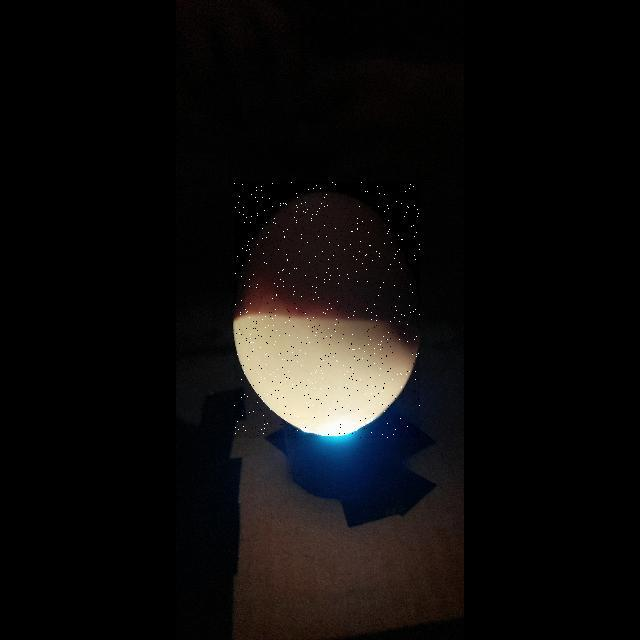Fertile: (234, 182, 420, 438)
